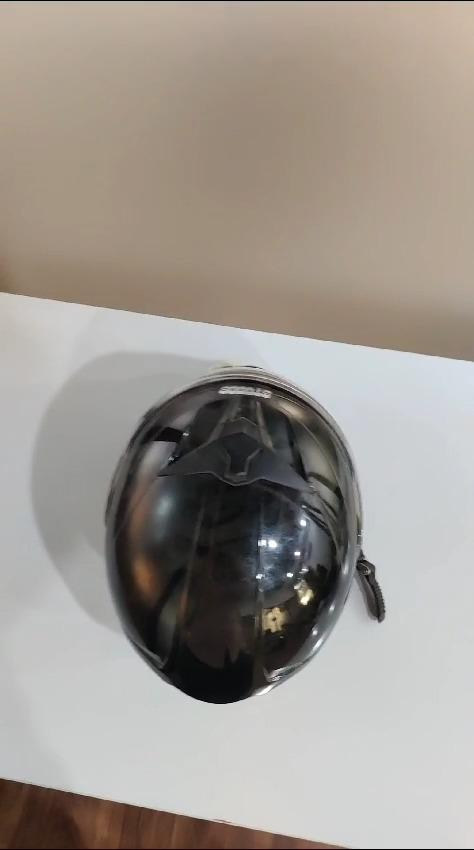Helmet: (106, 367, 383, 703)
